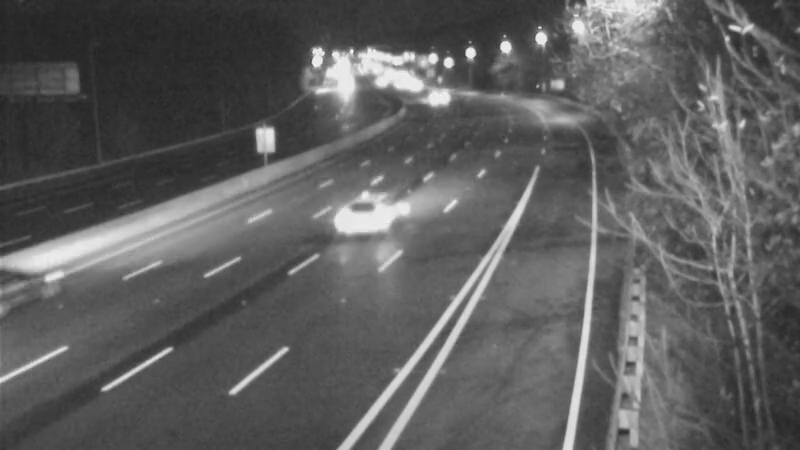vehicle: (316, 189, 396, 269), (1, 250, 64, 330), (409, 74, 459, 124)
